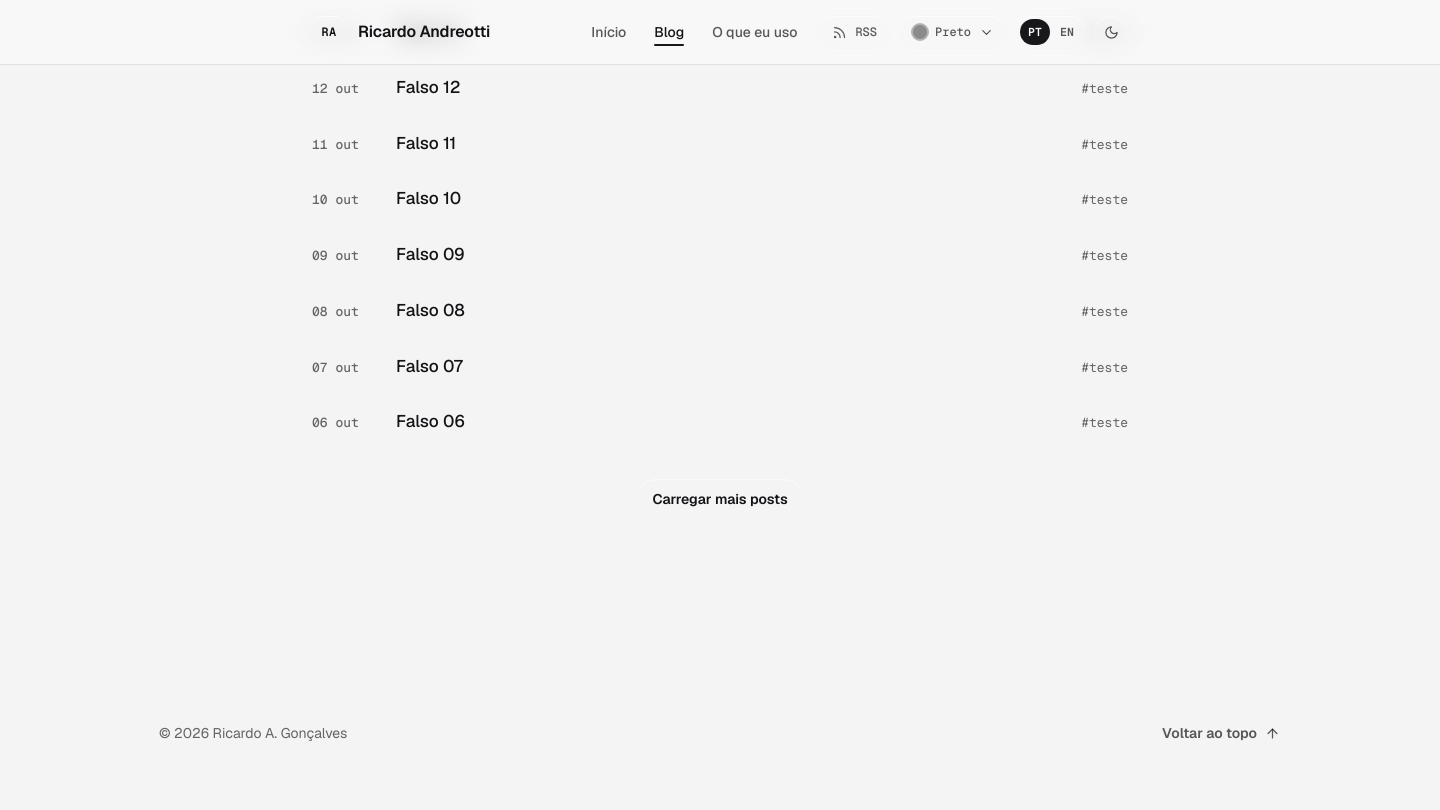
it: lista do blog com mais de 20 posts › shows 20 posts and loads the rest with "Carregar mais posts"
(page scrolled)
Expected: the text "Falso 06" is shown, x1=396 y1=410 x2=465 y2=432
Expected: the text "Falso 05" is not shown
What coordinates should you click on to do the following:
click the button "Carregar mais posts"
I would click on:
 (720, 499)
Its box is x1=635 y1=478 x2=805 y2=520.
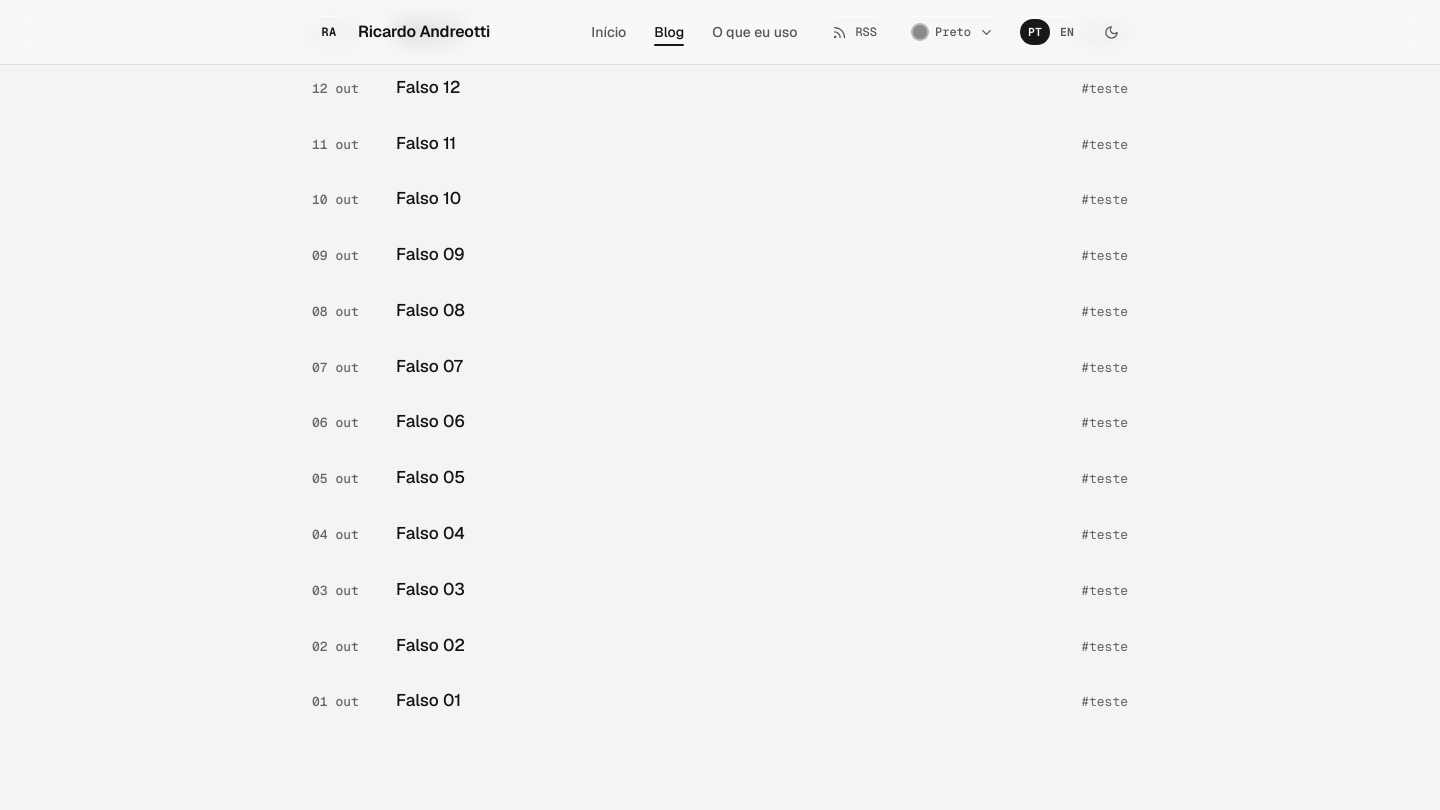
Expected: the text "Falso 05" is shown, x1=396 y1=466 x2=465 y2=488
Expected: the button "Carregar mais posts" is gone
